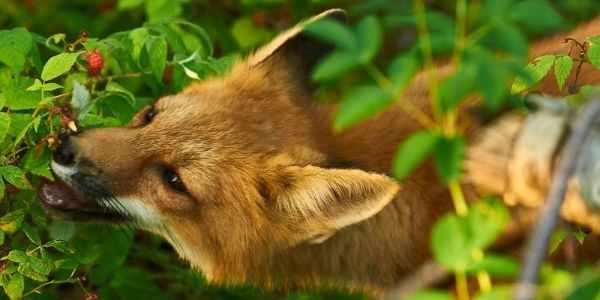fox: (48, 50, 447, 293)
